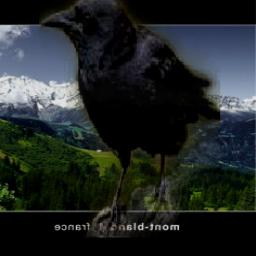Crow: (38, 0, 219, 238)
